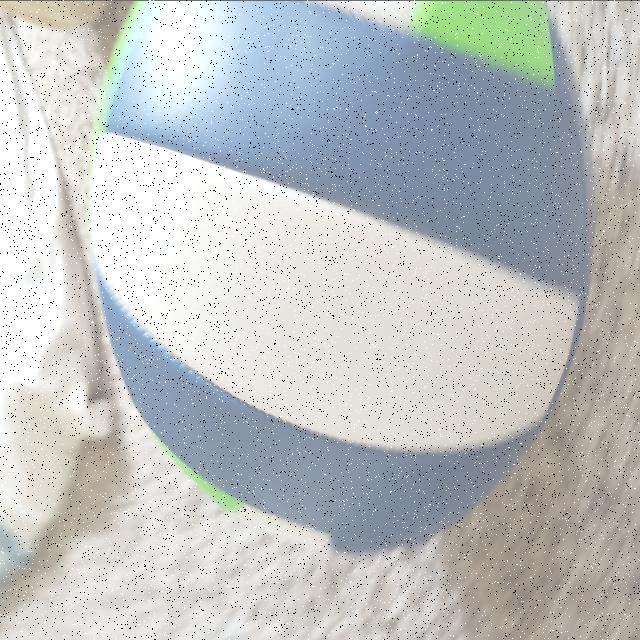ball: (90, 0, 590, 548)
